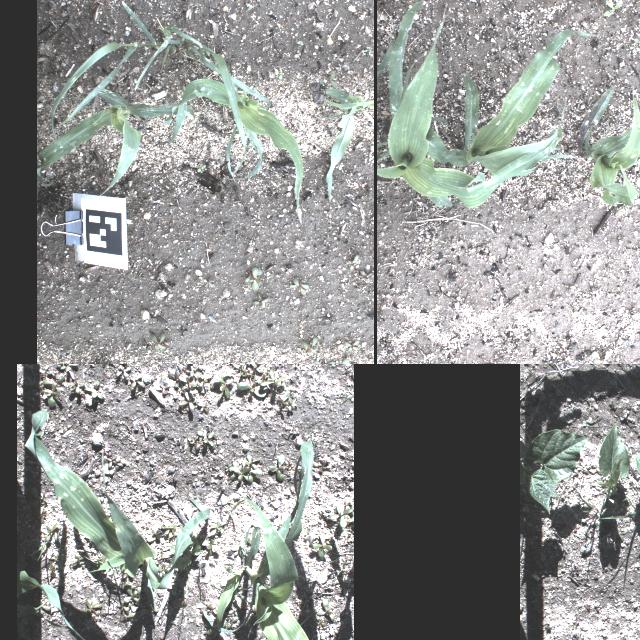crop: (24, 408, 210, 612), (377, 0, 545, 209), (202, 437, 353, 640), (464, 28, 598, 174), (162, 76, 304, 212), (36, 86, 196, 202), (577, 84, 640, 205), (16, 541, 91, 640), (322, 88, 374, 202), (520, 430, 586, 516), (597, 423, 629, 511), (377, 41, 391, 132)
weed: (50, 2, 176, 138), (164, 24, 270, 176), (595, 477, 640, 527), (169, 528, 201, 568), (322, 554, 350, 588), (238, 369, 268, 397), (260, 369, 288, 393), (269, 451, 289, 481), (328, 504, 352, 528), (213, 373, 235, 399), (312, 532, 334, 558), (190, 430, 217, 450), (82, 378, 106, 400), (578, 481, 594, 513), (80, 598, 102, 620), (42, 382, 62, 406), (166, 364, 185, 388), (232, 464, 254, 484), (123, 584, 143, 606), (225, 498, 247, 518), (317, 598, 335, 622), (602, 0, 624, 19), (245, 267, 262, 291), (591, 347, 613, 364), (300, 337, 320, 355), (289, 278, 309, 296), (178, 390, 196, 410), (147, 524, 165, 544), (245, 453, 263, 471), (336, 516, 354, 534), (43, 523, 59, 543), (403, 196, 415, 222), (200, 538, 222, 552), (320, 72, 338, 88), (151, 333, 167, 351), (252, 292, 270, 308), (41, 374, 65, 386), (178, 374, 196, 390), (254, 374, 272, 390), (626, 34, 640, 54), (249, 72, 259, 98), (283, 396, 299, 412), (434, 236, 452, 250), (128, 374, 146, 388), (114, 364, 132, 378), (66, 380, 84, 394), (208, 620, 226, 634), (185, 366, 201, 380), (338, 394, 354, 408), (210, 520, 224, 536), (160, 520, 176, 534), (247, 536, 263, 550), (228, 601, 242, 617), (72, 553, 86, 569), (278, 390, 290, 408), (38, 599, 51, 615), (184, 562, 190, 596), (228, 460, 238, 480), (38, 364, 52, 378), (198, 373, 212, 387), (48, 551, 62, 565), (344, 340, 360, 352), (348, 254, 360, 270), (196, 107, 204, 131), (155, 382, 171, 394), (208, 532, 216, 556), (122, 600, 138, 612), (120, 611, 136, 623), (58, 364, 78, 373), (36, 506, 46, 524), (360, 270, 372, 284), (572, 306, 586, 318), (322, 527, 336, 539), (227, 614, 239, 628), (106, 455, 118, 469), (120, 568, 136, 578), (157, 564, 170, 576), (230, 546, 243, 558), (250, 364, 265, 374), (233, 364, 247, 374), (220, 369, 234, 379), (314, 618, 328, 628), (197, 402, 210, 412), (246, 468, 262, 476), (203, 278, 215, 288), (209, 604, 219, 616), (200, 604, 212, 614), (313, 359, 336, 364), (168, 530, 182, 538), (304, 527, 312, 541), (198, 562, 206, 576), (49, 58, 60, 68), (274, 71, 284, 81), (52, 66, 62, 76), (214, 533, 224, 543), (78, 78, 90, 86), (48, 565, 56, 577), (362, 355, 373, 363), (38, 498, 46, 509), (196, 164, 206, 172), (116, 601, 124, 611), (48, 561, 58, 569), (579, 421, 589, 429), (40, 492, 46, 501), (316, 618, 328, 622), (316, 342, 322, 348), (296, 41, 304, 45), (364, 158, 368, 164), (362, 49, 368, 52), (368, 50, 372, 54)
